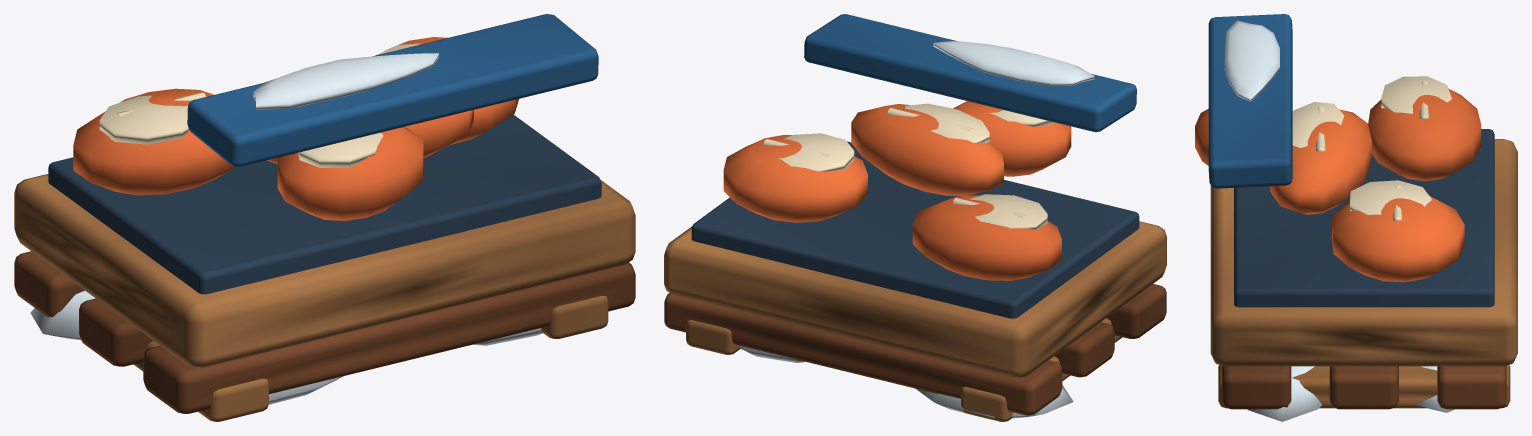
Rendered from cooked_food_stack.glb.
The picture shows the model from 3 angles, left to right: view 1: azimuth 30°, elevation 25°; view 2: azimuth 150°, elevation 25°; view 3: azimuth 270°, elevation 25°; orthographic projection. The views are drawn at different scales.
Visible parts, largest first — view 1: cooked_food_stack; view 2: cooked_food_stack; view 3: cooked_food_stack.
Part boxes in pixels (bbox=[...]): cooked_food_stack: bbox=[14, 14, 635, 421]; cooked_food_stack: bbox=[664, 14, 1166, 421]; cooked_food_stack: bbox=[1195, 14, 1517, 421].
Size of the model in its own units: 1.38 by 0.886 by 0.9666.
